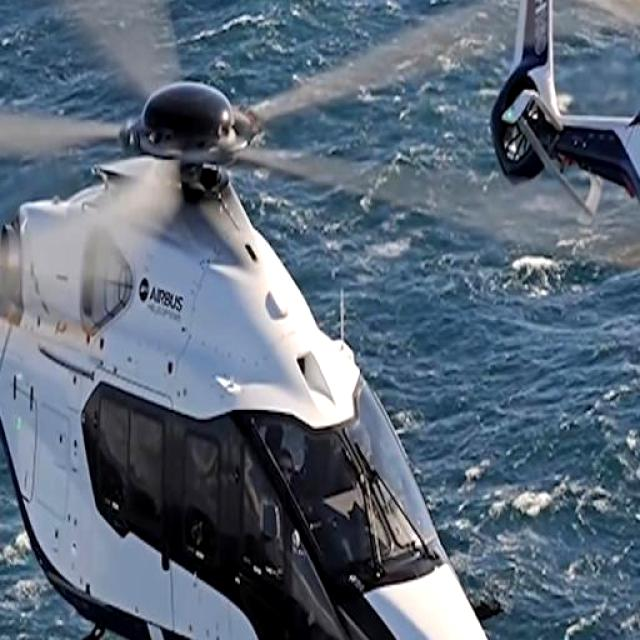drone: (0, 0, 544, 640), (488, 0, 640, 329)
